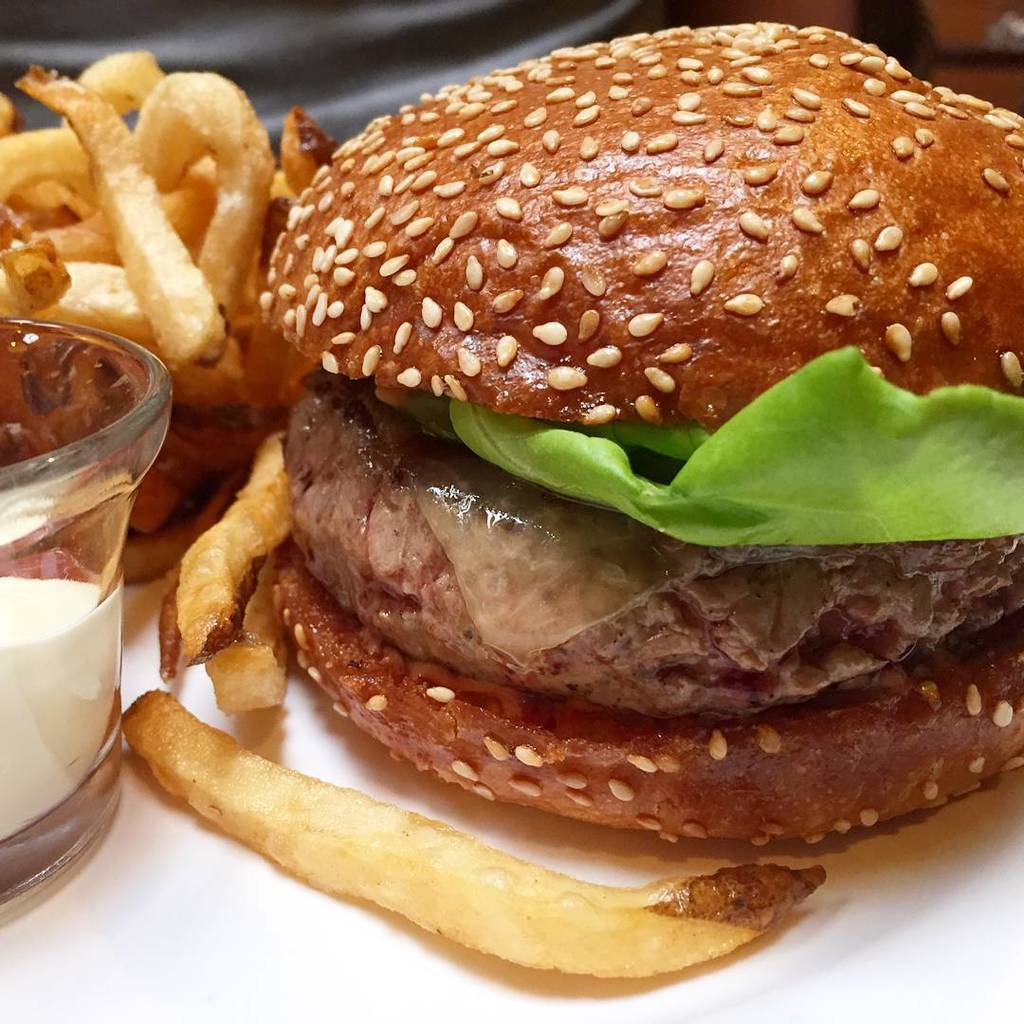Hamburger: (257, 20, 1023, 847)
